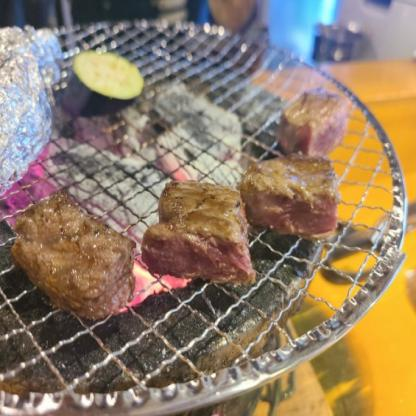Carne: (14, 194, 123, 328), (135, 182, 257, 280), (238, 151, 336, 237), (276, 86, 346, 157)
